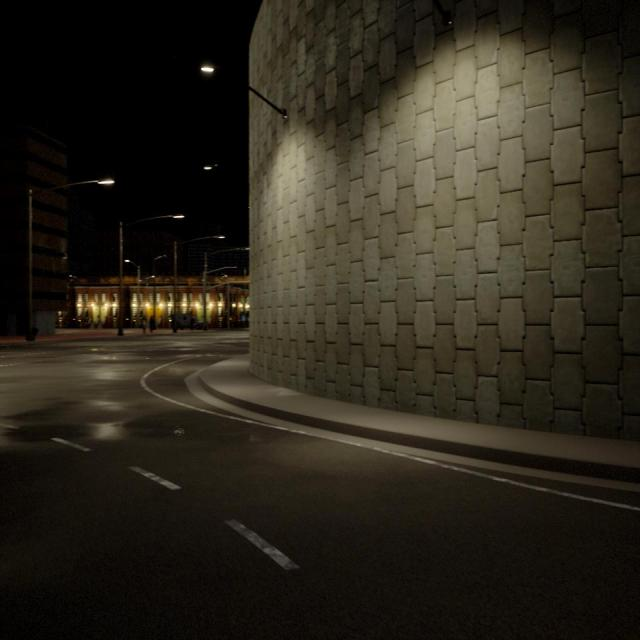Pedestrian: (142, 316, 146, 333), (150, 315, 154, 332)
Vehicle: (177, 314, 200, 329)
